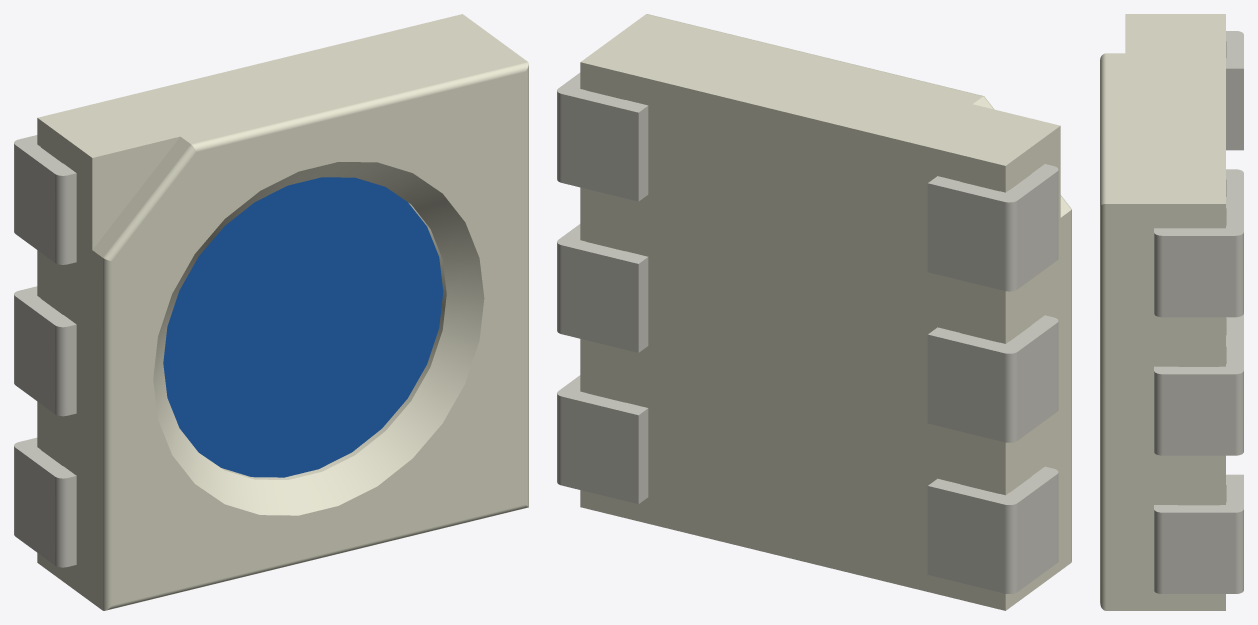
The model's file is LED_RGB_5050_6pin.glb.
The picture shows the model from 3 angles, left to right: view 1: azimuth 30°, elevation 25°; view 2: azimuth 150°, elevation 25°; view 3: azimuth 270°, elevation 25°; orthographic projection. The views are drawn at different scales.
Parts seen in each view (by area): view 1: LED_RGB_5050_6; view 2: LED_RGB_5050_6; view 3: LED_RGB_5050_6.
Part boxes in pixels (x1,y1,x2,y2): LED_RGB_5050_6: (14,14,528,610); LED_RGB_5050_6: (557,14,1071,610); LED_RGB_5050_6: (1100,14,1243,610).
Bounding box in the file's own units: 0.0054 × 0.005 × 0.0016.
